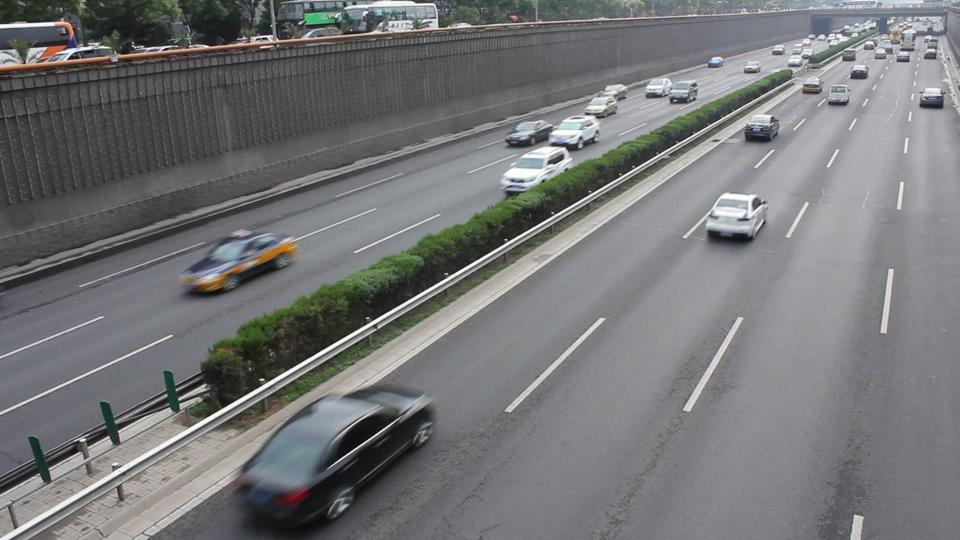Car: (236, 383, 431, 526), (178, 229, 297, 292), (499, 144, 570, 192), (702, 191, 764, 240), (547, 114, 598, 149), (503, 118, 551, 146), (743, 114, 778, 143)
